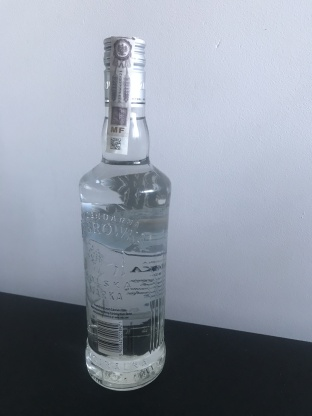nakretka: (101, 34, 148, 110)
